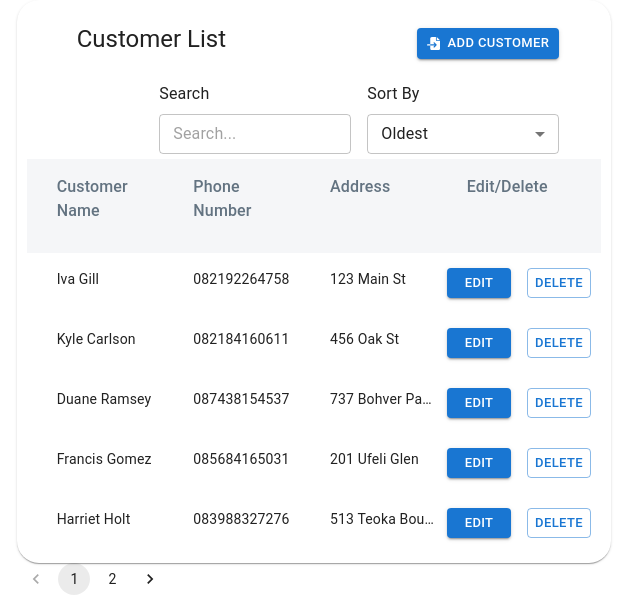
Test: DataTableCustomers › should works correctly in pagination
The width and height of the screenshot is (629, 612).
Click the button named "Go to next page": coordinates (150, 579) [134,563,166,595]
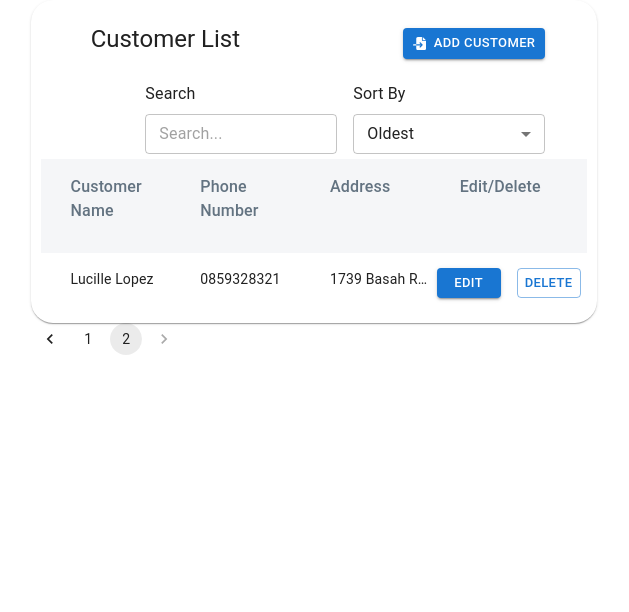
Expected: the text "Lucille Lopez" is shown, [71,269,168,289]
